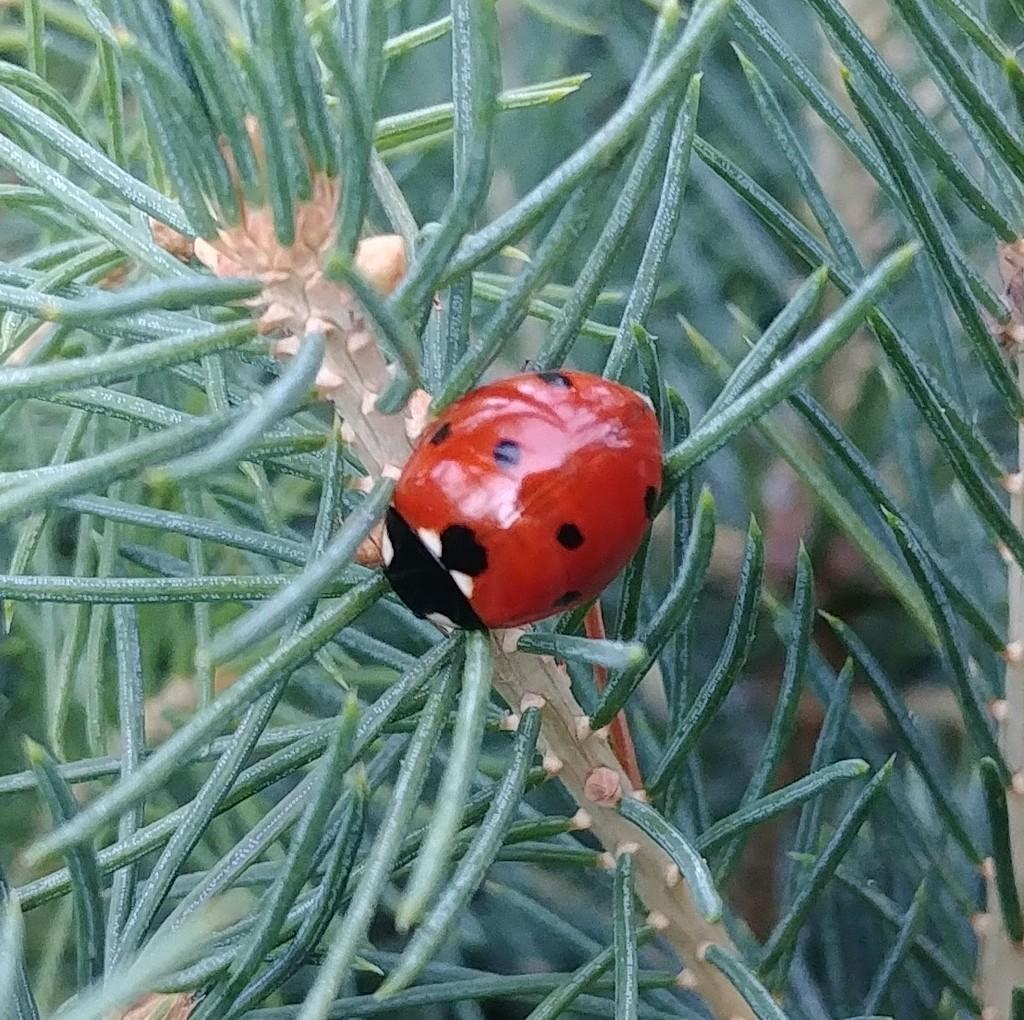ladybug: (376, 361, 674, 644)
